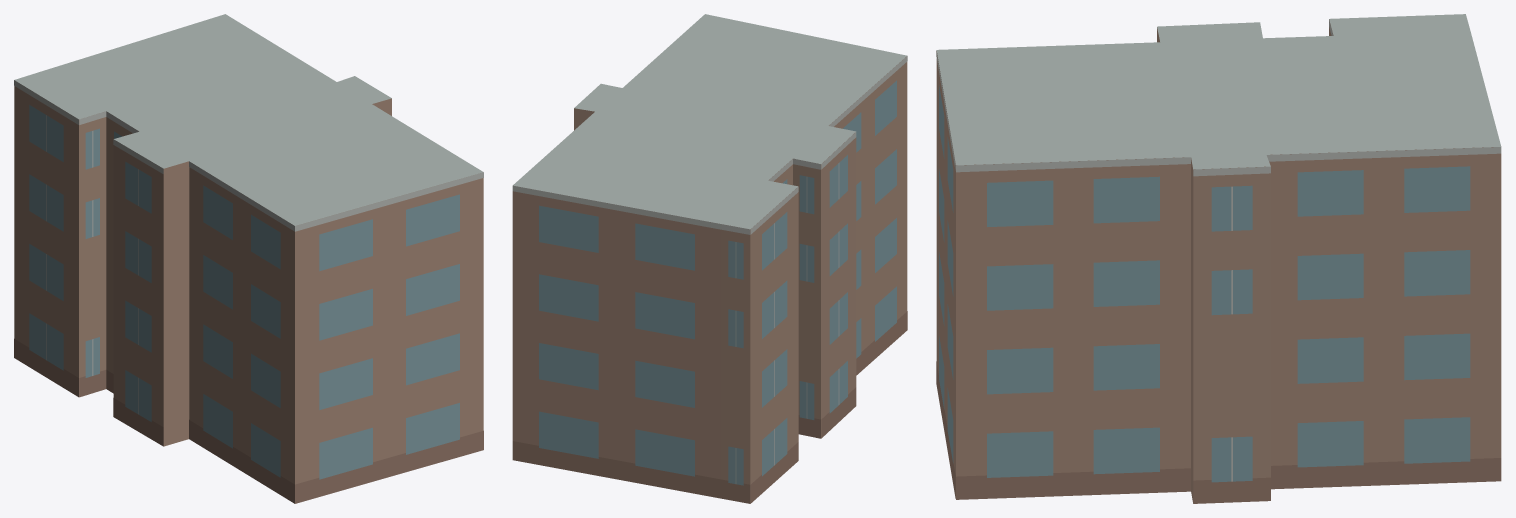
File: survey-upis-33044239.glb
3 views of the same model, side by side, from view 1: azimuth 30°, elevation 25°; view 2: azimuth 150°, elevation 25°; view 3: azimuth 270°, elevation 25° (orthographic). The views are drawn at different scales.
Parts seen in each view (by area): view 1: survey-upis-33044239.tmp; view 2: survey-upis-33044239.tmp; view 3: survey-upis-33044239.tmp.
Part boxes in pixels (x1=…): survey-upis-33044239.tmp: x1=14, y1=14, x2=483, y2=503; survey-upis-33044239.tmp: x1=512, y1=14, x2=907, y2=503; survey-upis-33044239.tmp: x1=936, y1=14, x2=1501, y2=503.
Bounding box in the file's own units: 11.82 × 11.85 × 18.15.
